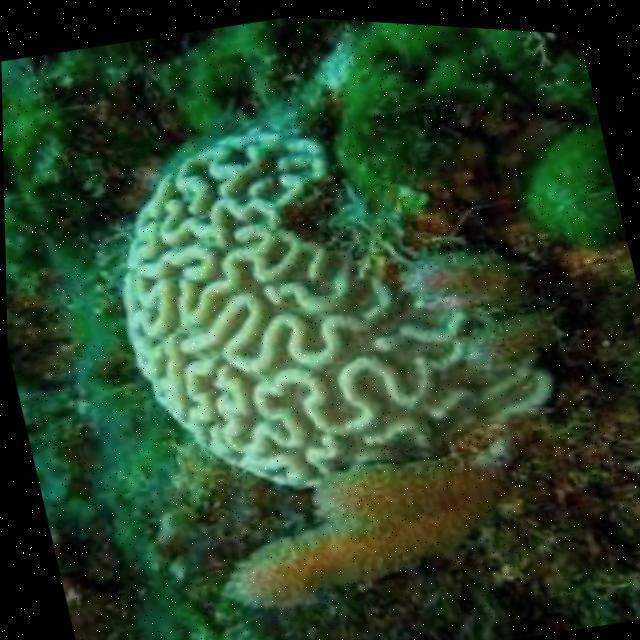Healthy Coral: (55, 13, 597, 579)
